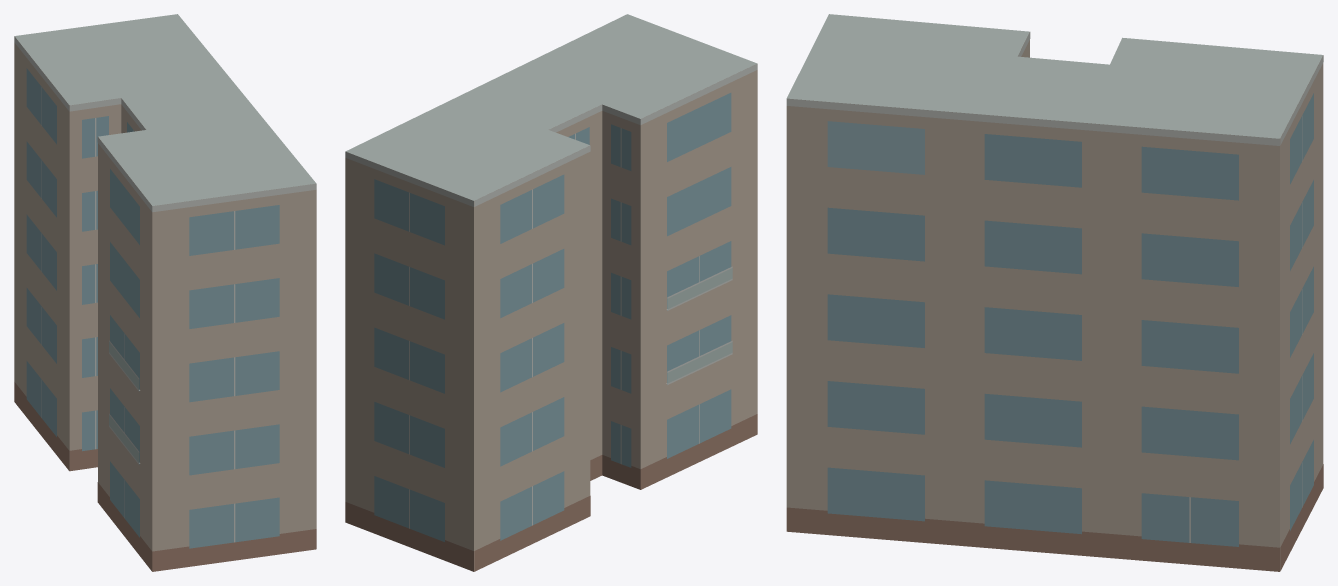
The model's file is survey-upis-32591597.glb.
3 views of the same model, side by side, from view 1: azimuth 30°, elevation 25°; view 2: azimuth 150°, elevation 25°; view 3: azimuth 270°, elevation 25° (orthographic). The views are drawn at different scales.
Parts seen in each view (by area): view 1: survey-upis-32591597.tmp; view 2: survey-upis-32591597.tmp; view 3: survey-upis-32591597.tmp.
Part boxes in pixels (left/top/right/bottom): survey-upis-32591597.tmp: left=14, top=14, right=316, bottom=571; survey-upis-32591597.tmp: left=345, top=14, right=757, bottom=571; survey-upis-32591597.tmp: left=786, top=14, right=1323, bottom=571.
Size of the model in its own units: 8.97 by 14.5 by 16.3.
